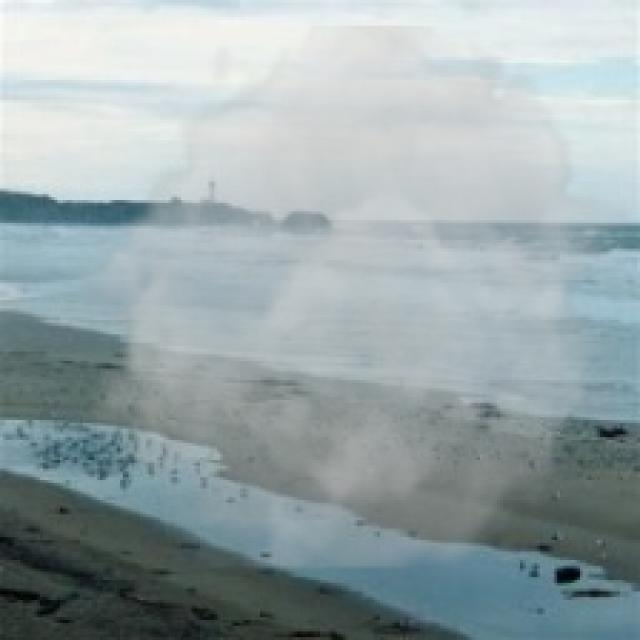smoke: (71, 26, 634, 568)
